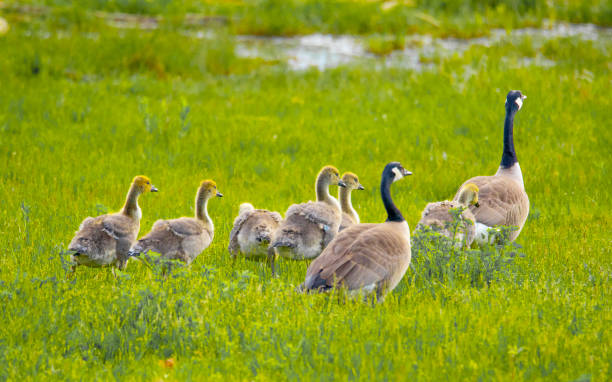goose: (296, 160, 415, 305), (444, 88, 533, 255)
